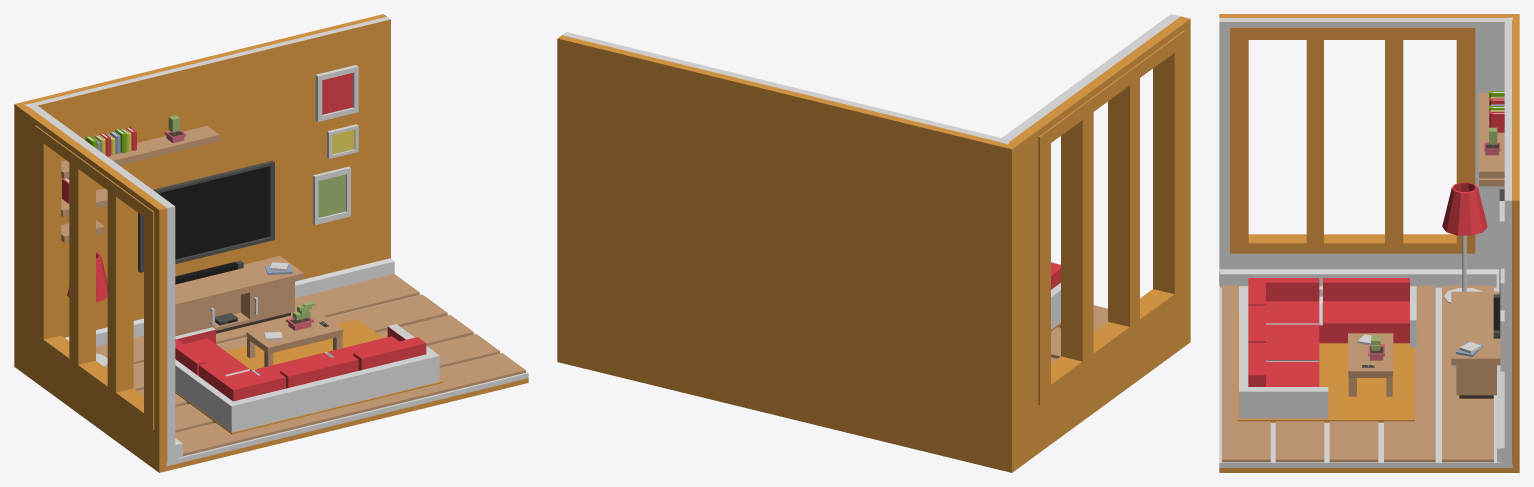
The picture shows the model from 3 angles, left to right: view 1: azimuth 30°, elevation 25°; view 2: azimuth 150°, elevation 25°; view 3: azimuth 270°, elevation 25°; orthographic projection. The views are drawn at different scales.
Visible parts, largest first — view 1: Room, Window, Sofa, TV1, Mesa, Alfombra, Mesa 2, Art 1, Art 2, Table 1, Art 3, Lampara (+2 smaller); view 2: Room, Window; view 3: Room, Window, Sofa, Alfombra, Mesa, Lampara, Mesa 2, Table 1, Art 1, Bonsai, Bonsai 2.
Part boxes in pixels (x1,y1,x2,y2): Room: (14, 14, 528, 472); Window: (34, 125, 154, 429); Sofa: (175, 324, 439, 432); TV1: (138, 160, 274, 272); Mesa: (175, 256, 303, 336); Alfombra: (175, 319, 442, 434); Mesa 2: (246, 313, 343, 366); Art 1: (315, 65, 358, 121); Art 2: (313, 166, 350, 224); Table 1: (61, 125, 219, 178); Art 3: (327, 124, 358, 158); Lampara: (67, 252, 107, 366); Room: (557, 14, 1190, 472); Window: (1038, 30, 1185, 405); Room: (1219, 14, 1519, 472); Window: (1230, 27, 1475, 253); Sofa: (1239, 278, 1416, 418); Alfombra: (1237, 313, 1414, 422); Mesa: (1451, 291, 1500, 398); Lampara: (1442, 182, 1487, 303); Mesa 2: (1348, 333, 1393, 396); Table 1: (1479, 93, 1504, 178); Art 1: (1499, 201, 1504, 268); Bonsai: (1368, 334, 1384, 360); Bonsai 2: (1484, 127, 1500, 155).
Bounding box in the file's own units: 310 × 210 × 210.
